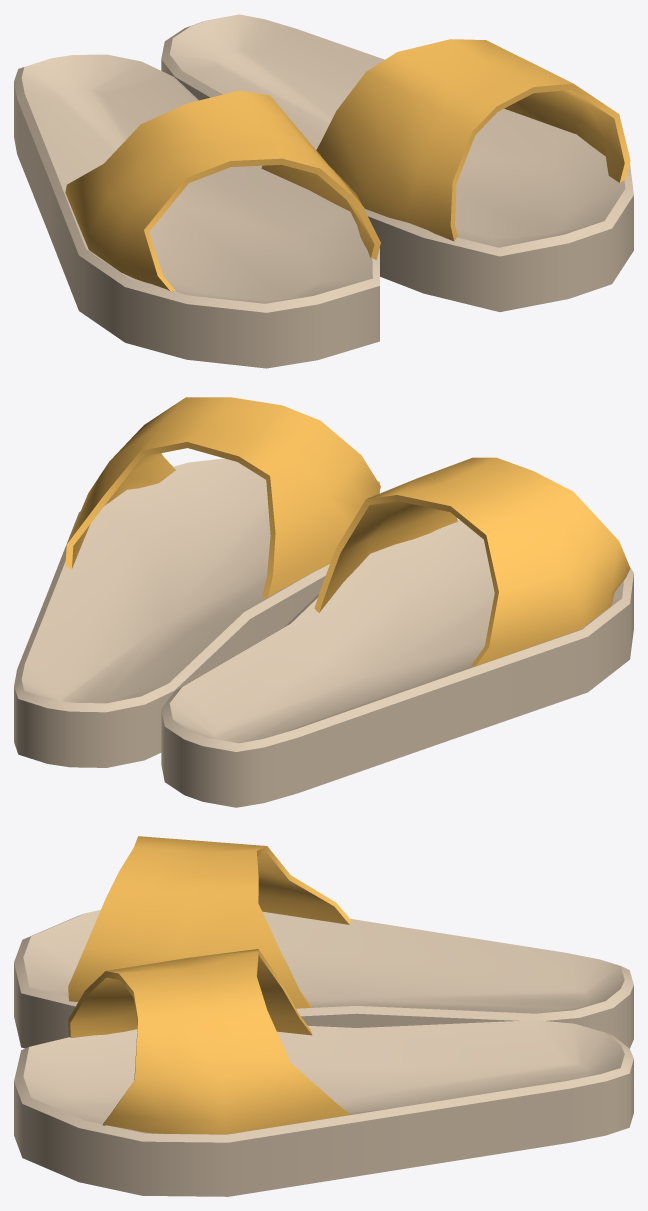
The model's file is Slippers.fbx.
The picture shows the model from 3 angles, top to bottom: view 1: azimuth 30°, elevation 25°; view 2: azimuth 150°, elevation 25°; view 3: azimuth 270°, elevation 25°; orthographic projection. The views are drawn at different scales.
Parts seen in each view (by area): view 1: slippers001; view 2: slippers001; view 3: slippers001.
Boxes of the visible parts, x1=… form: slippers001: x1=14, y1=14, x2=633, y2=368; slippers001: x1=14, y1=397, x2=633, y2=807; slippers001: x1=14, y1=836, x2=633, y2=1196.
Size of the model in its own units: 59.58 by 18.67 by 64.58.
